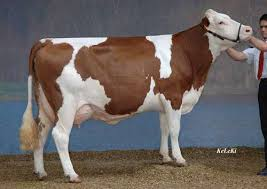cow: (193, 6, 259, 56)
